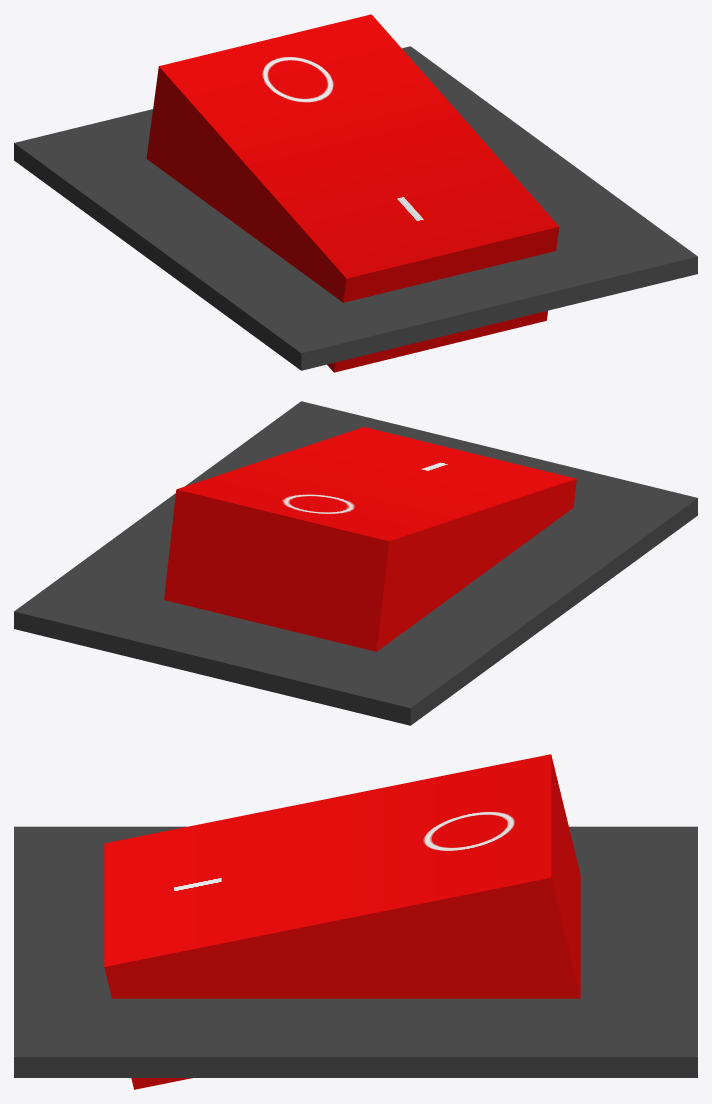
File: Switch.fbx
3 views of the same model, one above another, from view 1: azimuth 30°, elevation 25°; view 2: azimuth 150°, elevation 25°; view 3: azimuth 270°, elevation 25° (orthographic). The views are drawn at different scales.
Parts seen in each view (by area): view 1: polySurface25, polySurface26; view 2: polySurface26, polySurface25; view 3: polySurface25, polySurface26.
Part boxes in pixels (x1=…): polySurface25: x1=146, y1=14, x2=559, y2=372; polySurface26: x1=14, y1=46, x2=697, y2=370; polySurface26: x1=14, y1=401, x2=697, y2=725; polySurface25: x1=164, y1=427, x2=576, y2=651; polySurface25: x1=104, y1=754, x2=580, y2=1089; polySurface26: x1=14, y1=826, x2=697, y2=1077.
Bounding box in the file's own units: 2.82 × 1.21 × 3.53.
2 materials, 1 textured.
